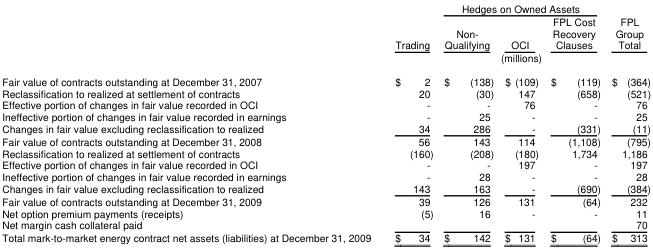table: (1, 0, 650, 244)
table column: (1, 0, 382, 244), (437, 0, 498, 244), (544, 0, 605, 244), (382, 0, 437, 244), (498, 0, 544, 244), (605, 0, 650, 244)
table column header: (1, 0, 650, 69)
table row: (1, 14, 650, 50), (1, 50, 650, 69), (1, 69, 650, 86), (1, 0, 650, 14), (1, 230, 650, 244), (1, 121, 650, 134), (1, 181, 650, 194), (1, 86, 650, 98), (1, 98, 650, 110), (1, 134, 650, 146), (1, 146, 650, 158), (1, 158, 650, 170), (1, 194, 650, 206), (1, 206, 650, 218), (1, 218, 650, 230), (1, 110, 650, 121), (1, 170, 650, 181)
table spanning cell: (382, 50, 650, 69), (382, 0, 437, 50), (437, 0, 605, 14), (605, 0, 650, 50)
